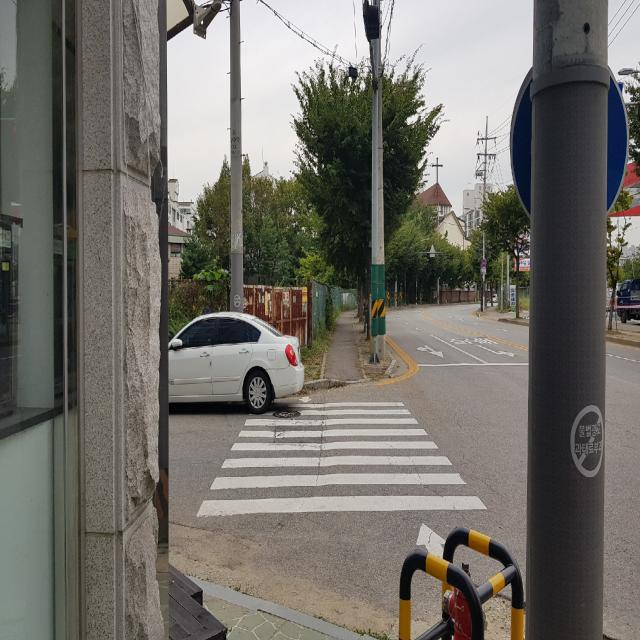횡단보도: (195, 393, 489, 519)
